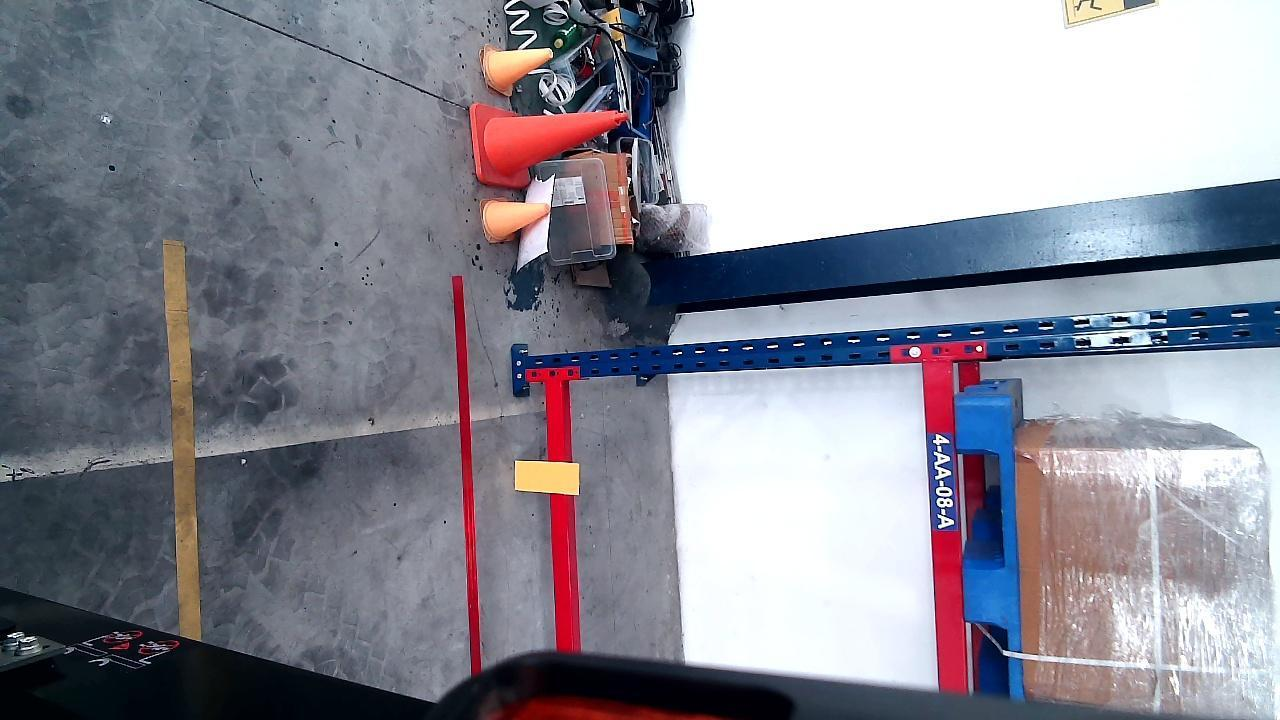h_rack: (924, 358, 969, 696), (548, 384, 571, 644)
orange_strip: (515, 461, 579, 495)
red_line: (455, 277, 480, 677)
small_pallet: (957, 393, 1025, 698)
yellow_line: (169, 233, 200, 640)
